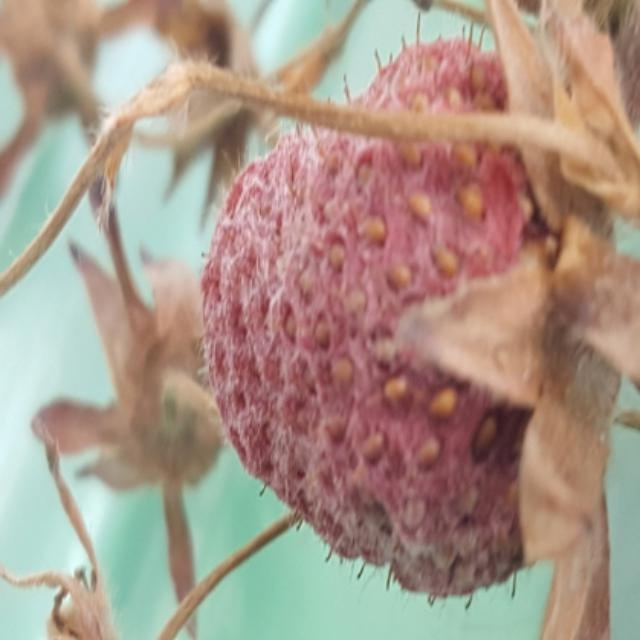Powdery Mildew Fruit: (197, 39, 603, 602)
